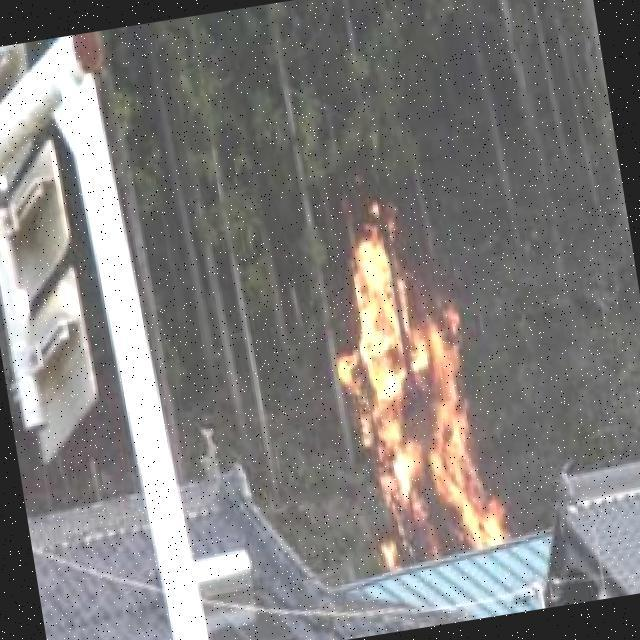Fire: (310, 208, 508, 577)
